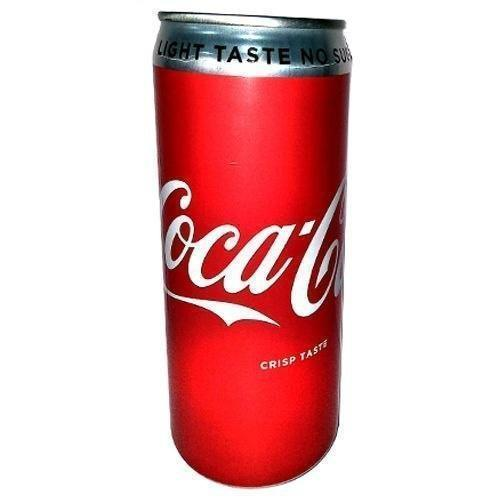tin can: (151, 7, 354, 491)
